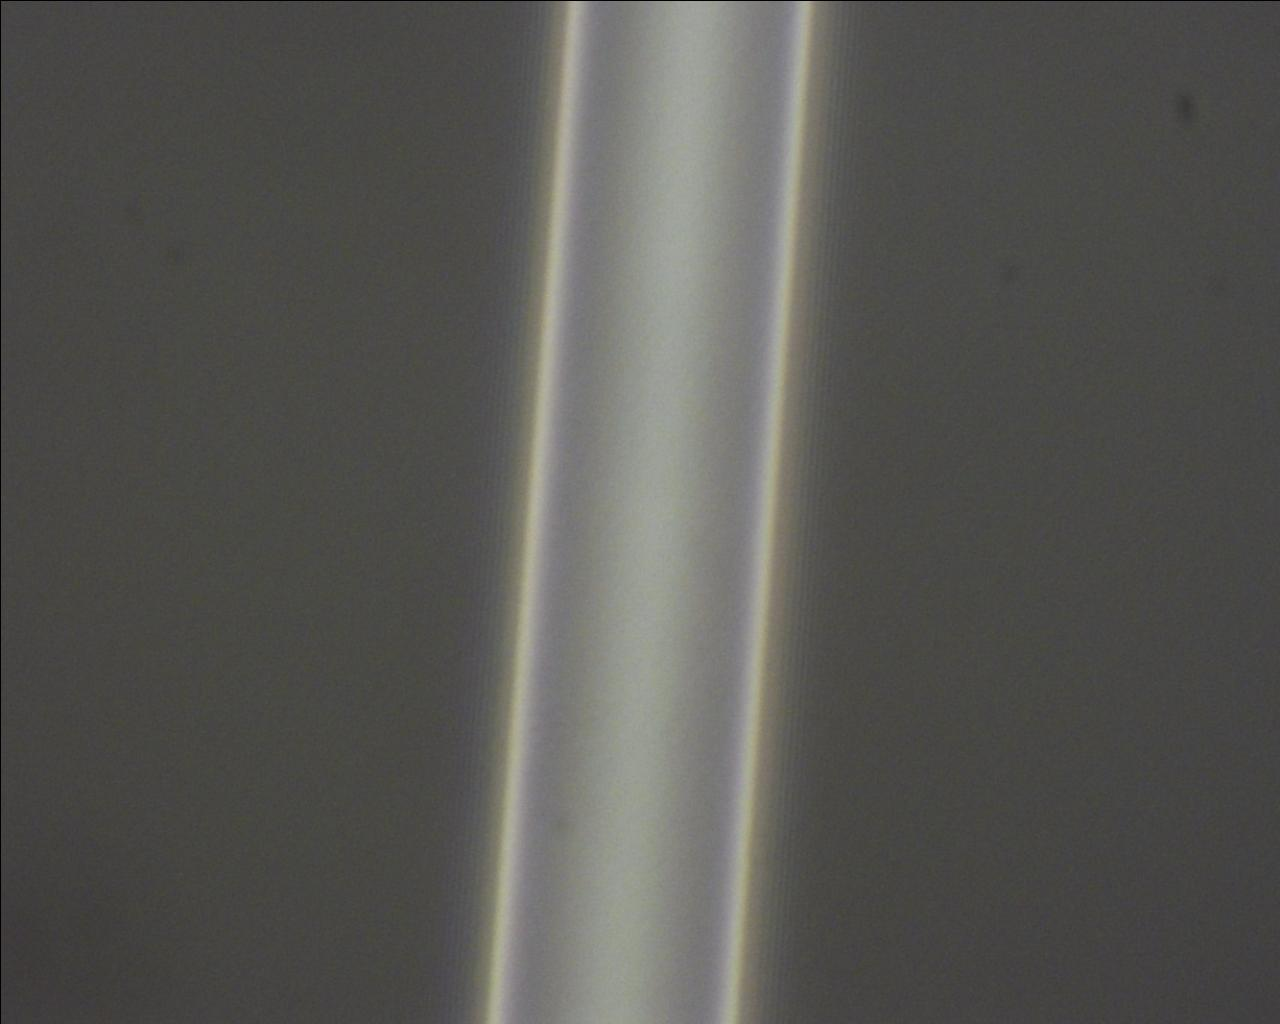fiber: (72, 0, 296, 1024)
